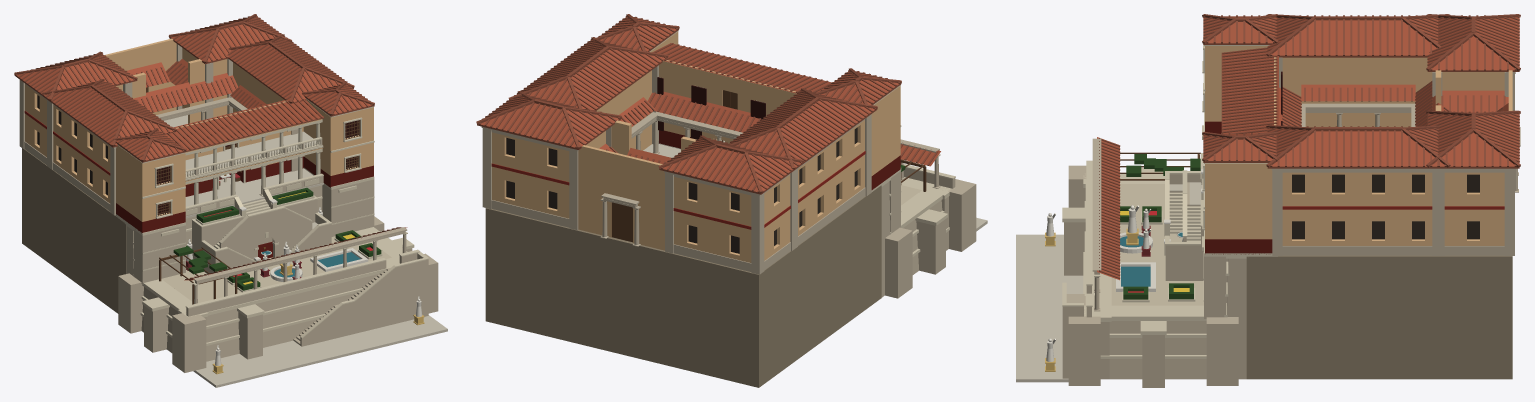
The model's file is rome_domus_a_belt.glb.
3 views of the same model, side by side, from view 1: azimuth 30°, elevation 25°; view 2: azimuth 150°, elevation 25°; view 3: azimuth 270°, elevation 25° (orthographic). The views are drawn at different scales.
Visible parts, largest first — view 1: rome_domus_a_belt; view 2: rome_domus_a_belt; view 3: rome_domus_a_belt.
Boxes of the visible parts, bbox=[...] form: rome_domus_a_belt: bbox=[14, 14, 447, 387]; rome_domus_a_belt: bbox=[476, 14, 987, 387]; rome_domus_a_belt: bbox=[1016, 14, 1520, 387].
Bounding box in the file's own units: 33.9 × 22.96 × 44.23.
